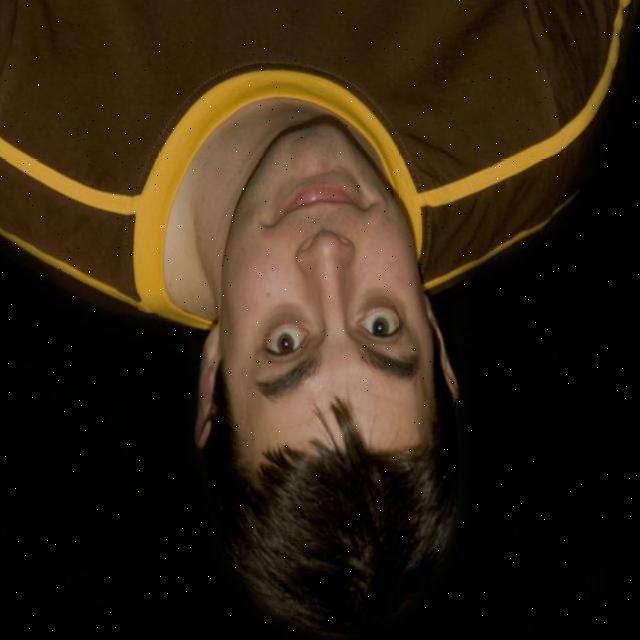puffy_eyes: (263, 299, 311, 335), (354, 288, 403, 313)
